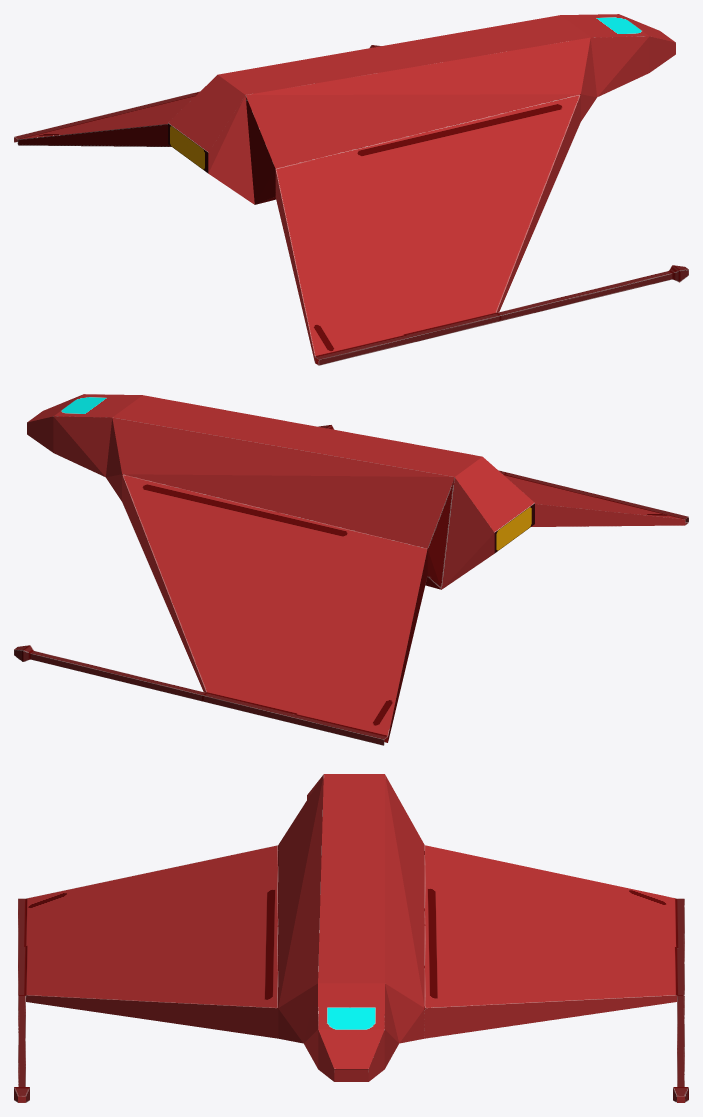
File: spaceship.obj
3 views of the same model, one above another, from view 1: azimuth 30°, elevation 25°; view 2: azimuth 150°, elevation 25°; view 3: azimuth 270°, elevation 25° (orthographic). The views are drawn at different scales.
Visible parts, largest first — view 1: SpaceShip_Cube; view 2: SpaceShip_Cube; view 3: SpaceShip_Cube.
Boxes of the visible parts, box(x1,y1,x2,y2) form: SpaceShip_Cube: box(14, 14, 688, 365); SpaceShip_Cube: box(14, 394, 688, 745); SpaceShip_Cube: box(14, 774, 688, 1102).
Size of the model in its own units: 0.437 by 0.1292 by 0.4652.
Materials: 1 (1 with a texture image).
